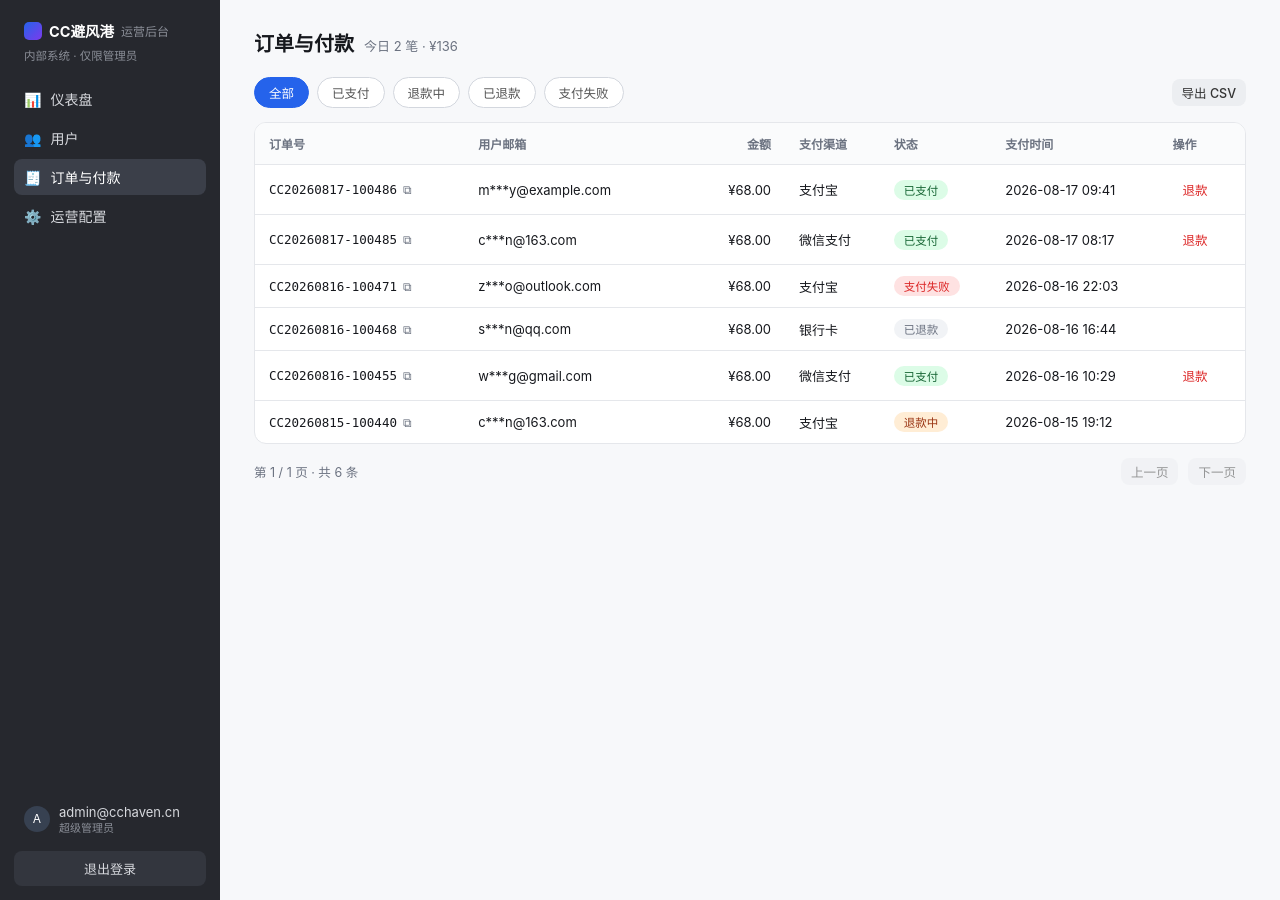
Test: 订单与付款页 › 退款失败时回滚状态并 toast 后端文案
Click the button "退款" in the row of "CC20260817-100486" at (1195, 190), box [1172,176,1218,203]
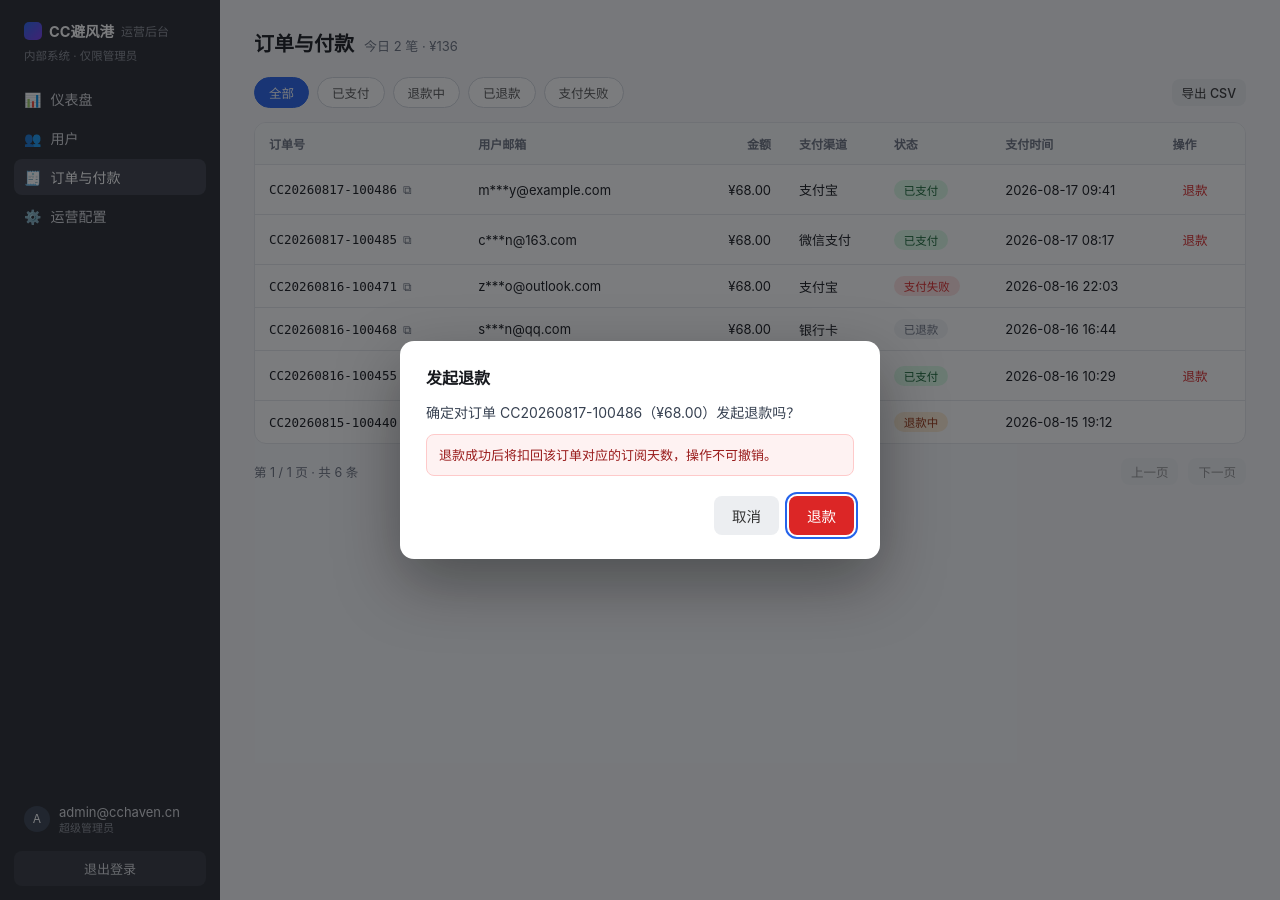
Click the button "退款" at (822, 516), box [789,496,854,535]
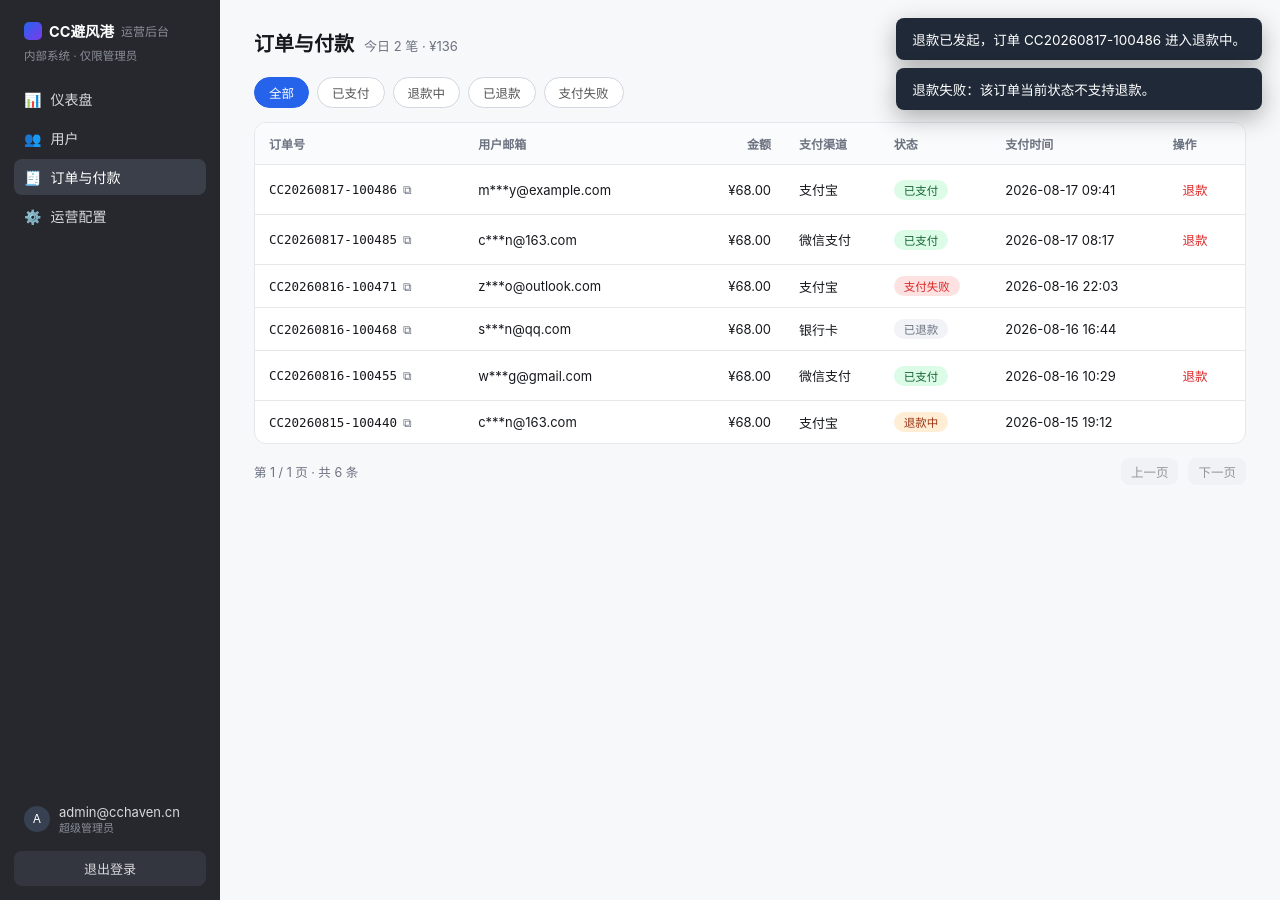
expect the text "退款失败：该订单当前状态不支持退款。" is shown: met, box [896,68,1262,110]
